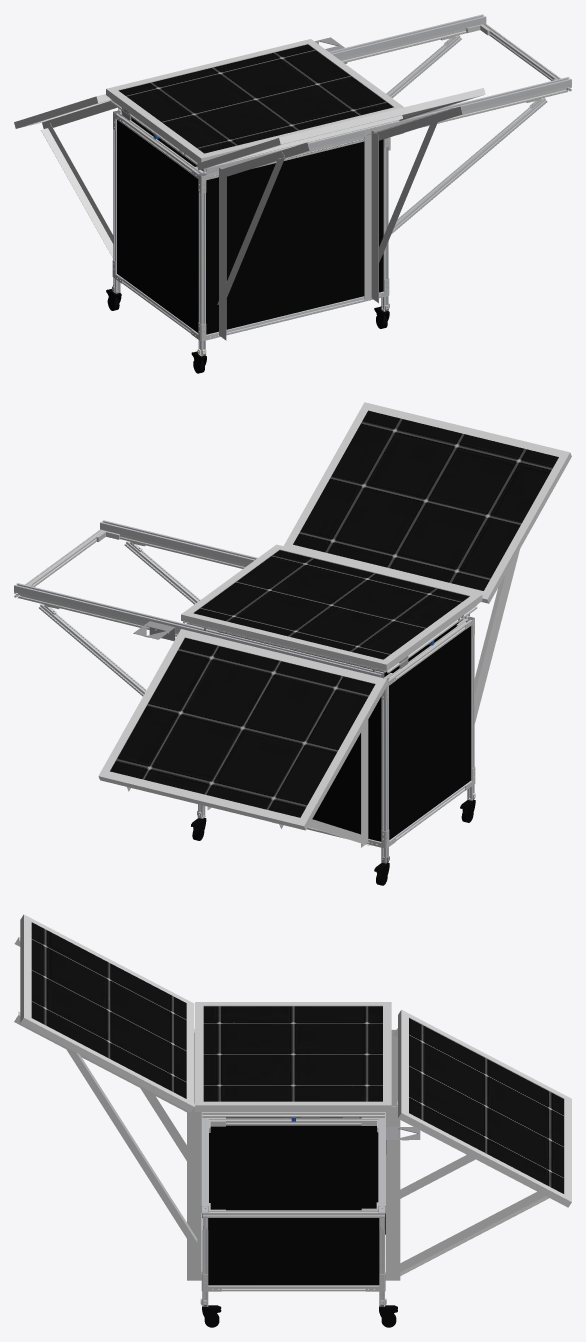
Rendered from observatory-web-v3.glb.
The picture shows the model from 3 angles, top to bottom: view 1: azimuth 30°, elevation 25°; view 2: azimuth 150°, elevation 25°; view 3: azimuth 270°, elevation 25°; orthographic projection. The views are drawn at different scales.
Visible parts, largest first — view 1: Mesh_15, Mesh_17, Mesh_16, Mesh_11, Mesh_4, Mesh_2, Mesh_1, Mesh_0, Mesh_6, Mesh_5, Mesh_12, Mesh_7 (+2 smaller); view 2: Mesh_17, Mesh_18, Mesh_11, Mesh_16, Mesh_4, Mesh_12, Mesh_15, Mesh_1, Mesh_6, Mesh_0, Mesh_2, Mesh_5 (+1 smaller); view 3: Mesh_17, Mesh_15, Mesh_11, Mesh_18, Mesh_1, Mesh_12, Mesh_0, Mesh_2, Mesh_4, Mesh_7, Mesh_3.
Part boxes in pixels (x1,y1,x2,y2): Mesh_15: [106, 117, 389, 373]; Mesh_17: [119, 44, 393, 153]; Mesh_16: [117, 120, 198, 332]; Mesh_11: [14, 39, 485, 258]; Mesh_4: [118, 14, 571, 348]; Mesh_2: [42, 24, 570, 340]; Mesh_1: [28, 23, 571, 335]; Mesh_0: [112, 28, 566, 341]; Mesh_6: [113, 119, 383, 354]; Mesh_5: [122, 35, 546, 335]; Mesh_12: [110, 44, 483, 169]; Mesh_7: [381, 138, 388, 309]; Mesh_17: [194, 410, 558, 659]; Mesh_18: [110, 638, 375, 817]; Mesh_11: [98, 453, 571, 847]; Mesh_16: [389, 626, 470, 839]; Mesh_4: [14, 520, 470, 840]; Mesh_12: [110, 402, 569, 770]; Mesh_15: [191, 622, 475, 885]; Mesh_1: [14, 529, 519, 848]; Mesh_6: [199, 625, 474, 862]; Mesh_0: [14, 534, 475, 848]; Mesh_2: [15, 530, 473, 842]; Mesh_5: [39, 541, 465, 840]; Mesh_17: [31, 922, 382, 1101]; Mesh_15: [202, 1125, 397, 1327]; Mesh_11: [20, 914, 571, 1280]; Mesh_18: [409, 1018, 563, 1193]; Mesh_1: [14, 937, 386, 1306]; Mesh_12: [24, 914, 563, 1115]; Mesh_0: [18, 937, 397, 1306]; Mesh_2: [194, 1028, 397, 1306]; Mesh_4: [201, 1112, 385, 1290]; Mesh_7: [202, 1228, 384, 1304]; Mesh_3: [209, 1120, 365, 1289].
Bounding box in the file's own units: 1.54 × 1.18 × 1.89.
25 materials, 7 textured.
